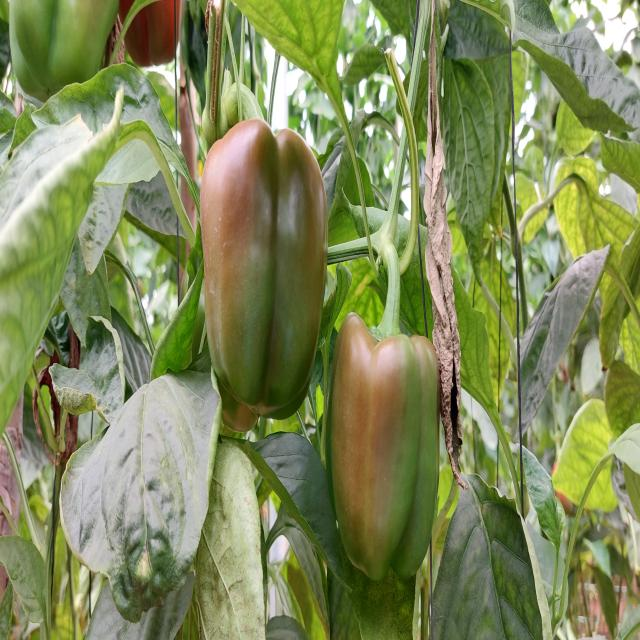BrownishRed--Can-be-Harvested: (204, 134, 323, 425), (337, 318, 439, 582)
Green--Not-ready-to-harvest: (8, 0, 123, 95)
Red-Ready-to-Harvest: (127, 0, 184, 74)
